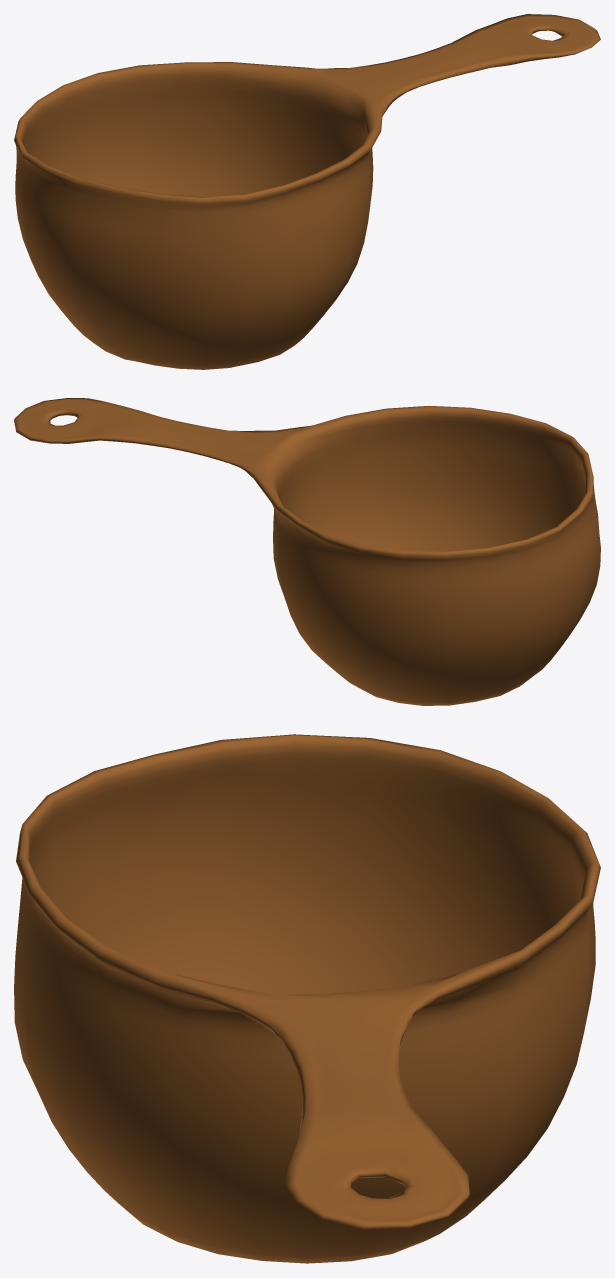
File: museum_assets_9.fbx
3 renders of one model, top to bottom at view 1: azimuth 30°, elevation 25°; view 2: azimuth 150°, elevation 25°; view 3: azimuth 270°, elevation 25°, orthographic. The views are drawn at different scales.
Parts seen in each view (by area): view 1: amfora_4; view 2: amfora_4; view 3: amfora_4.
Part boxes in pixels (x1,y1,x2,y2): amfora_4: (14,14,600,369); amfora_4: (14,398,600,705); amfora_4: (14,734,600,1263).
Size of the model in its own units: 0.7411 by 0.2556 by 0.3928.
